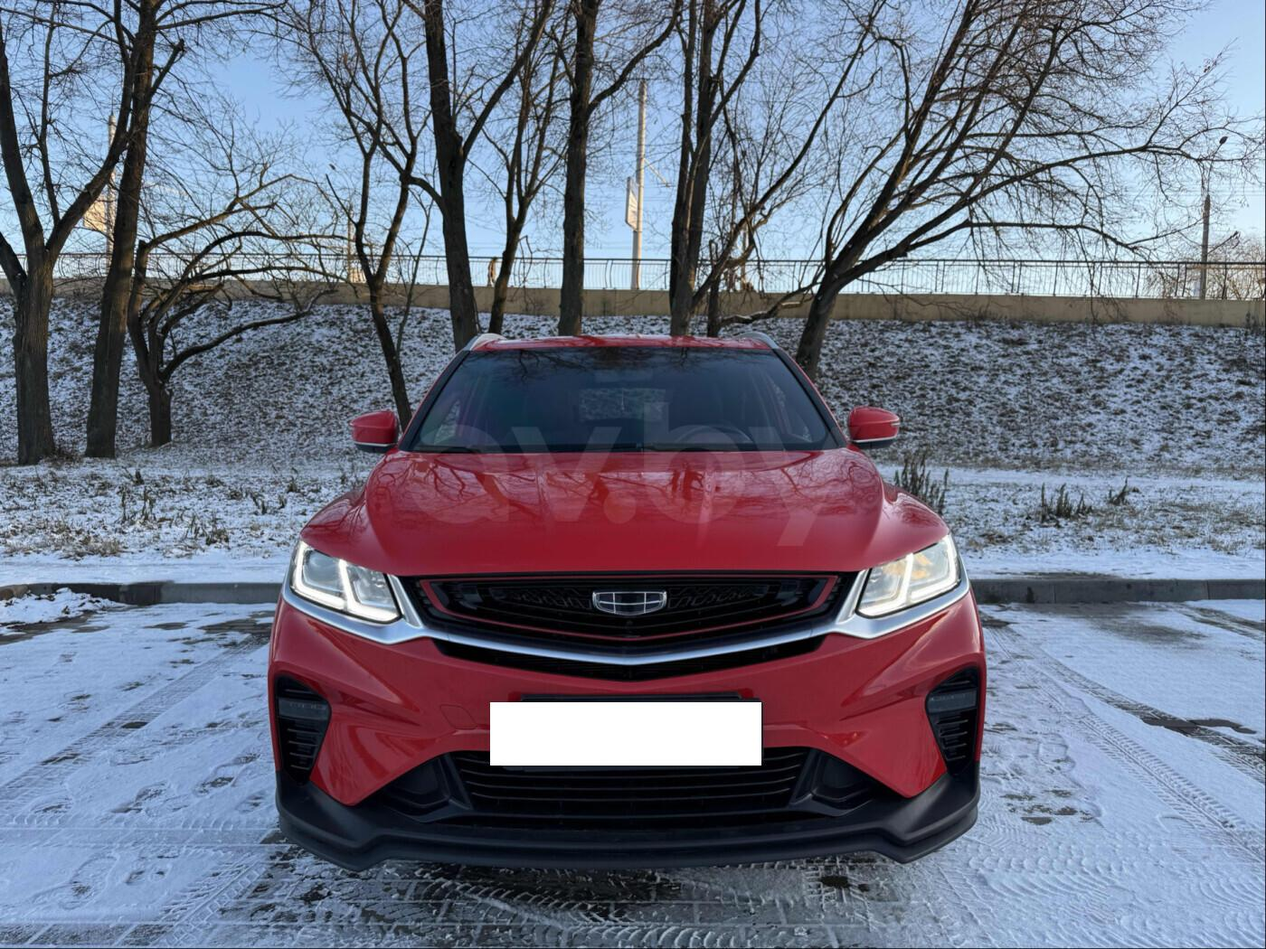Coolray_2019-2023: (256, 327, 997, 878)
